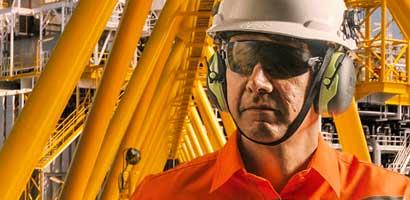helmet: (209, 1, 345, 43)
